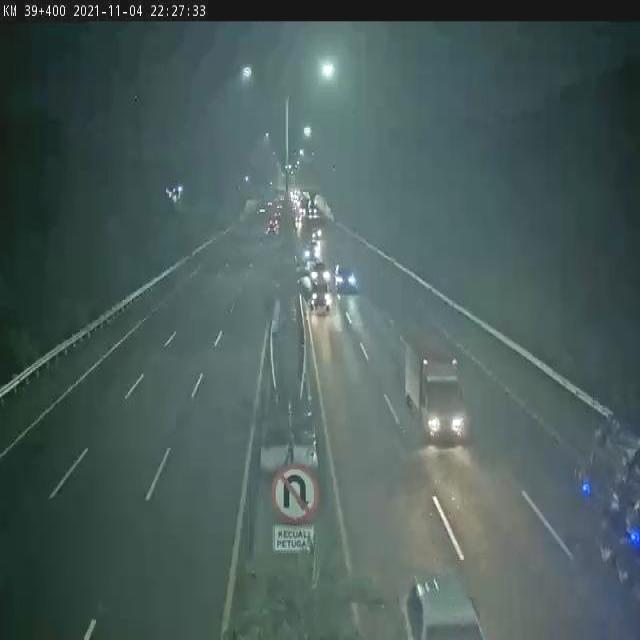Car: (332, 263, 360, 293), (308, 281, 332, 312), (309, 263, 331, 285)
Truck: (404, 333, 469, 448)
